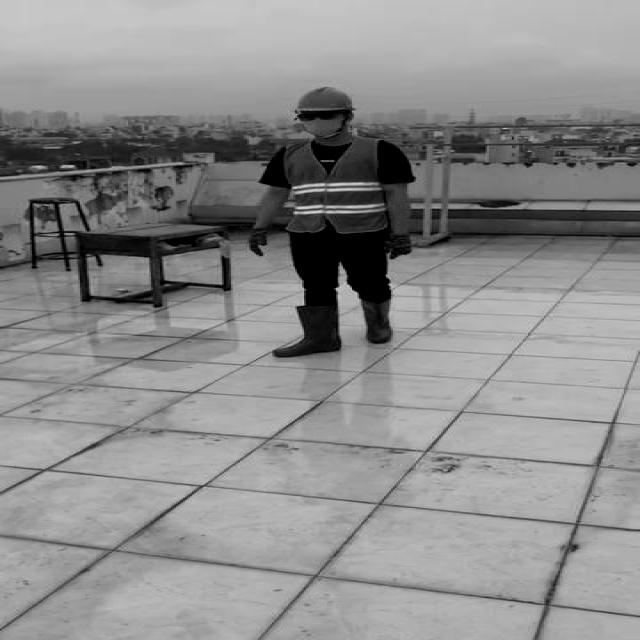boots: (274, 306, 341, 358), (361, 295, 395, 345)
face_mask: (294, 110, 348, 138)
glasses: (295, 109, 343, 122)
hand_glove: (384, 232, 416, 256), (249, 227, 268, 257)
head_helmet: (292, 84, 359, 112)
person: (244, 80, 422, 366)
vest: (282, 135, 386, 234)
